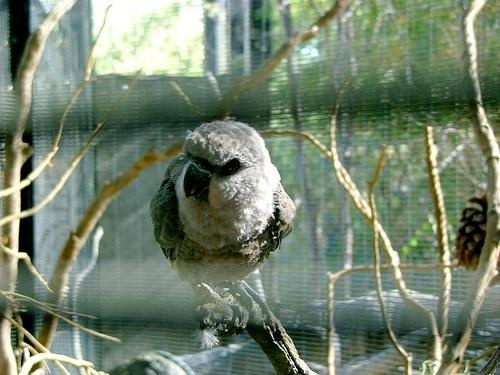bird: (152, 124, 291, 333)
